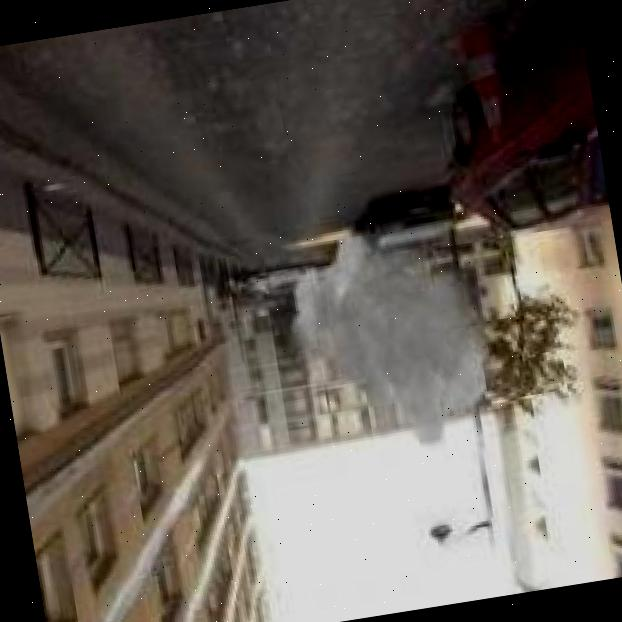smoke: (273, 209, 509, 468)
